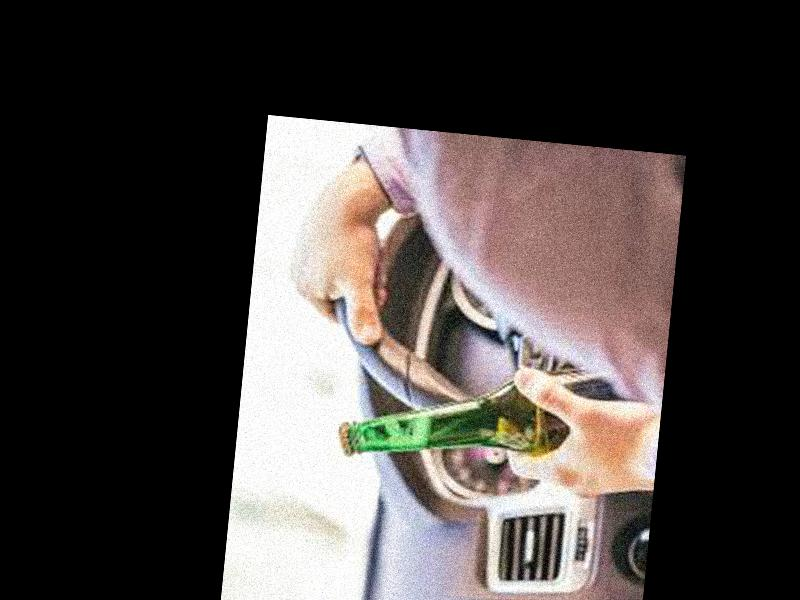Beer: (334, 347, 632, 484)
